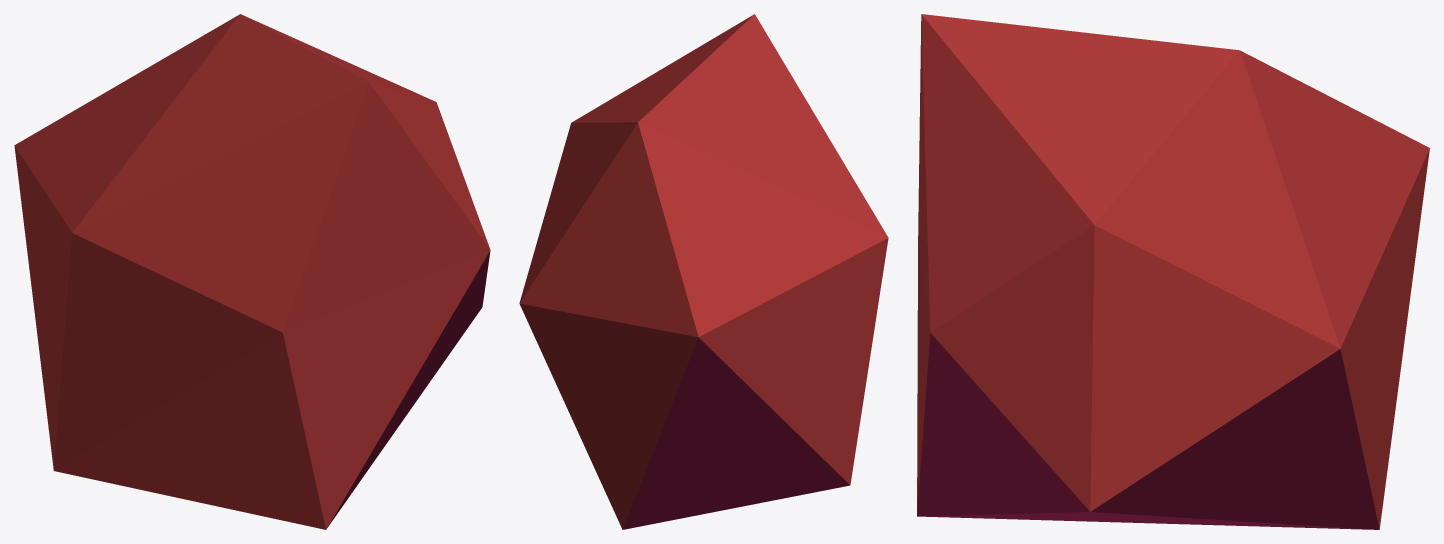
Rendered from chunk.glb.
3 renders of one model, left to right at view 1: azimuth 30°, elevation 25°; view 2: azimuth 150°, elevation 25°; view 3: azimuth 270°, elevation 25°, orthographic. The views are drawn at different scales.
Parts seen in each view (by area): view 1: Chunk; view 2: Chunk; view 3: Chunk.
Boxes of the visible parts, bbox=[...] form: Chunk: bbox=[14, 14, 490, 529]; Chunk: bbox=[519, 14, 888, 529]; Chunk: bbox=[917, 14, 1429, 529].
Bounding box in the file's own units: 0.4514 × 0.4686 × 0.4048.
